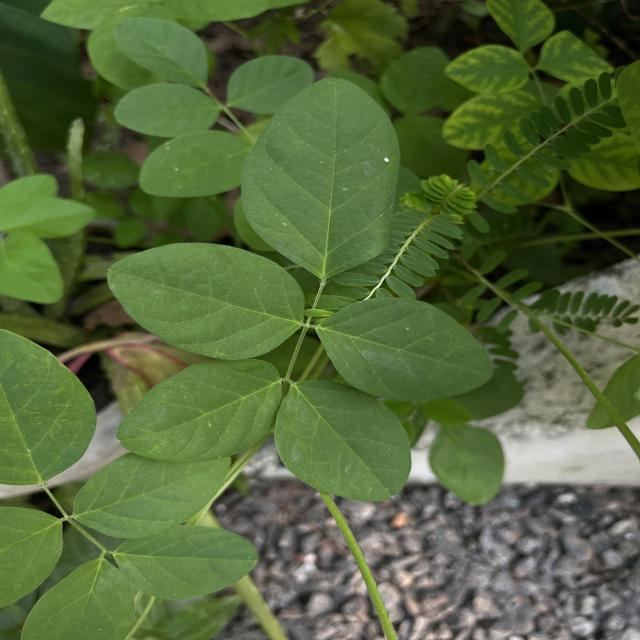Clitoria ternatea: (238, 75, 404, 281), (105, 240, 308, 361), (314, 296, 496, 403), (114, 356, 286, 464), (273, 378, 413, 503), (70, 452, 234, 540), (110, 523, 263, 602)
